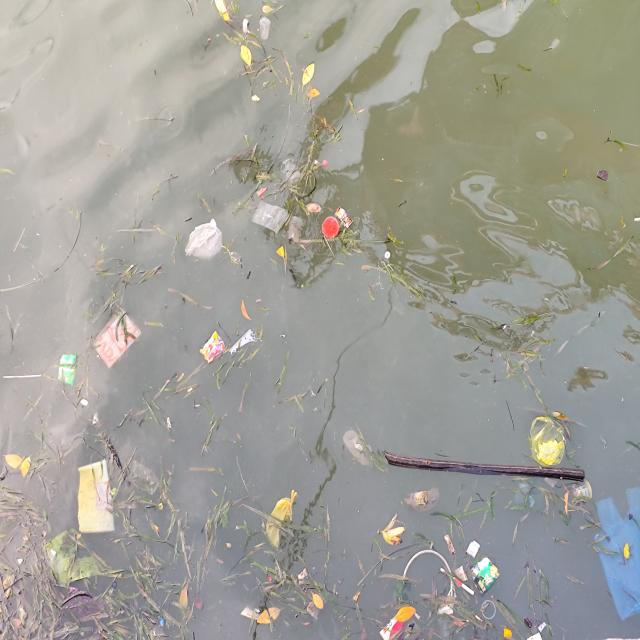Bungkus Makanan: (76, 458, 119, 539), (378, 610, 426, 640), (472, 557, 501, 599), (201, 332, 228, 363), (59, 354, 79, 388), (215, 2, 235, 25)
Bungkus Minuman: (280, 158, 304, 187), (288, 216, 306, 247), (572, 480, 595, 502), (258, 16, 273, 41)
Kantong Plastik: (591, 486, 640, 621), (95, 309, 142, 370), (526, 414, 572, 469), (182, 215, 228, 267), (267, 490, 301, 546), (125, 459, 162, 505), (252, 199, 291, 239), (344, 432, 375, 469), (403, 485, 441, 514), (515, 479, 548, 512)
